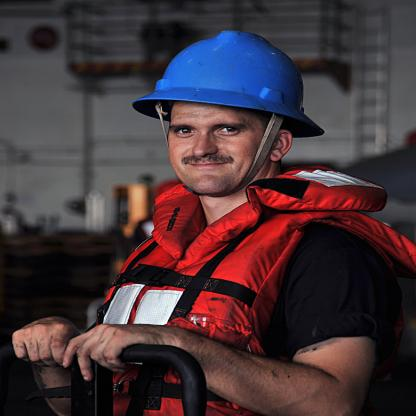Helmet: (136, 25, 316, 192)
